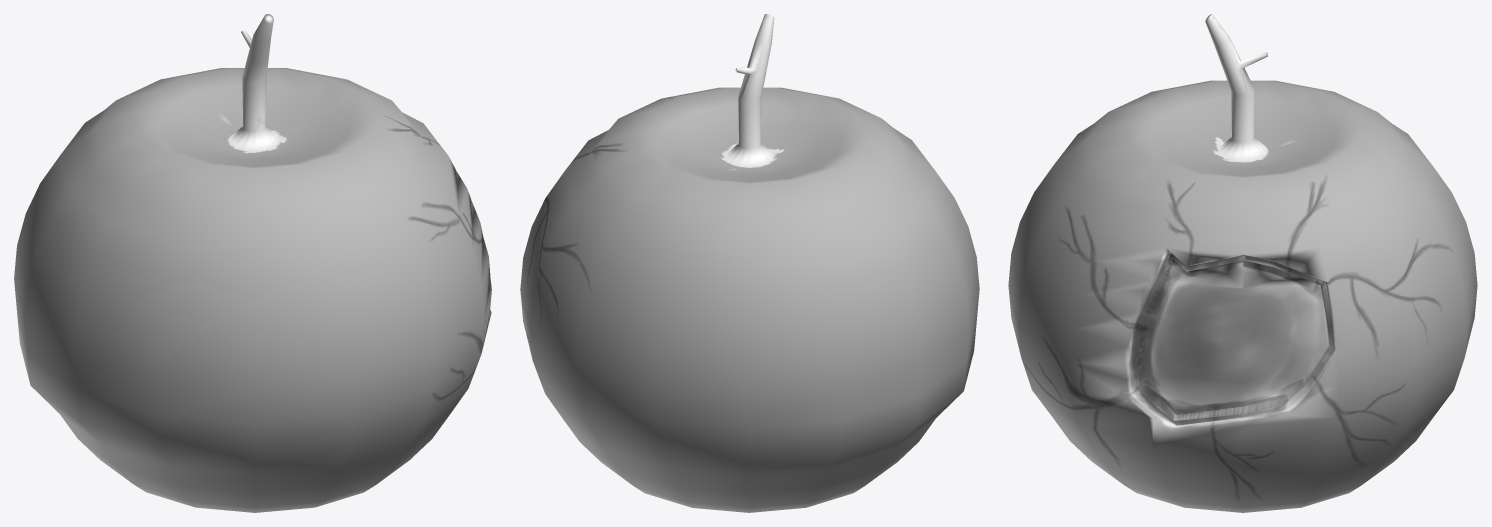
Rendered from HealthUpgrade.fbx.
The picture shows the model from 3 angles, left to right: view 1: azimuth 30°, elevation 25°; view 2: azimuth 150°, elevation 25°; view 3: azimuth 270°, elevation 25°; orthographic projection. The views are drawn at different scales.
Visible parts, largest first — view 1: HealthUpgrade; view 2: HealthUpgrade; view 3: HealthUpgrade.
Part boxes in pixels (x1,y1,x2,y2): HealthUpgrade: (14,14,491,512); HealthUpgrade: (520,14,979,512); HealthUpgrade: (1008,14,1477,512).
Bounding box in the file's own units: 19.66 × 21.21 × 20.
